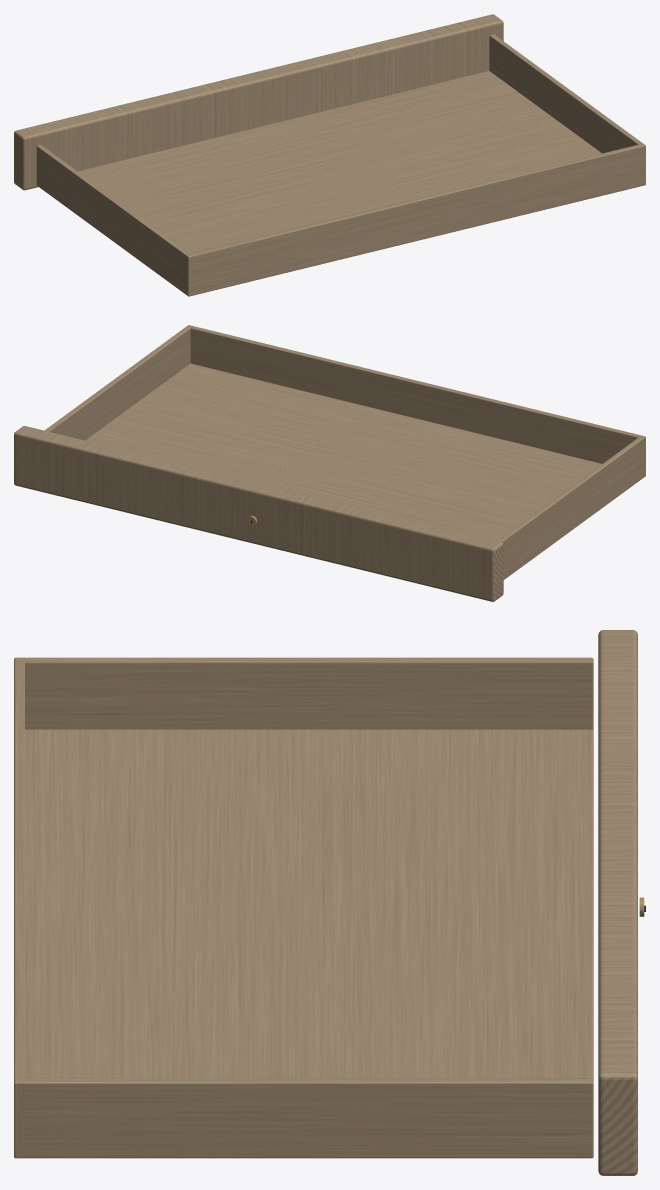
The model's file is drawer.glb.
3 views of the same model, one above another, from view 1: azimuth 30°, elevation 25°; view 2: azimuth 150°, elevation 25°; view 3: azimuth 270°, elevation 25° (orthographic). The views are drawn at different scales.
Visible parts, largest first — view 1: Drawer_Box_Bottom, shallow pencil drawer, Drawer_Box_Back, Drawer_Box_Side_L, Drawer_Box_Side_R; view 2: Drawer_Box_Bottom, shallow pencil drawer, Drawer_Box_Back, Drawer_Box_Side_L, Drawer_Box_Side_R; view 3: Drawer_Box_Bottom, Drawer_Box_Side_R, Drawer_Box_Side_L, shallow pencil drawer, Drawer_Box_Back.
Part boxes in pixels (x1,y1,x2,y2): Drawer_Box_Bottom: (36, 71, 645, 296); shallow pencil drawer: (14, 14, 503, 190); Drawer_Box_Back: (186, 143, 645, 292); Drawer_Box_Side_L: (36, 145, 192, 293); Drawer_Box_Side_R: (489, 34, 645, 181); Drawer_Box_Bottom: (85, 363, 645, 579); shallow pencil drawer: (14, 426, 503, 601); Drawer_Box_Back: (186, 325, 645, 463); Drawer_Box_Side_L: (497, 437, 645, 577); Drawer_Box_Side_R: (44, 326, 190, 440); Drawer_Box_Bottom: (14, 729, 593, 1158); Drawer_Box_Side_R: (14, 1078, 593, 1152); Drawer_Box_Side_L: (14, 657, 593, 729); shallow pencil drawer: (598, 630, 637, 1175); Drawer_Box_Back: (14, 657, 24, 1152).
Bounding box in the file's own units: 0.666 × 0.0715 × 0.398.
Materials: 5 (5 with a texture image).
